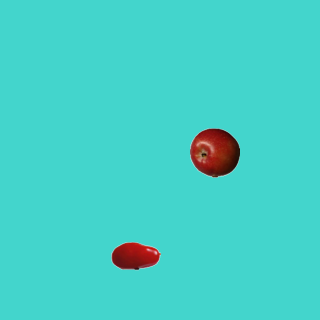Apple Braeburn: (189, 127, 239, 177)
Tomato 2: (110, 230, 160, 280)
